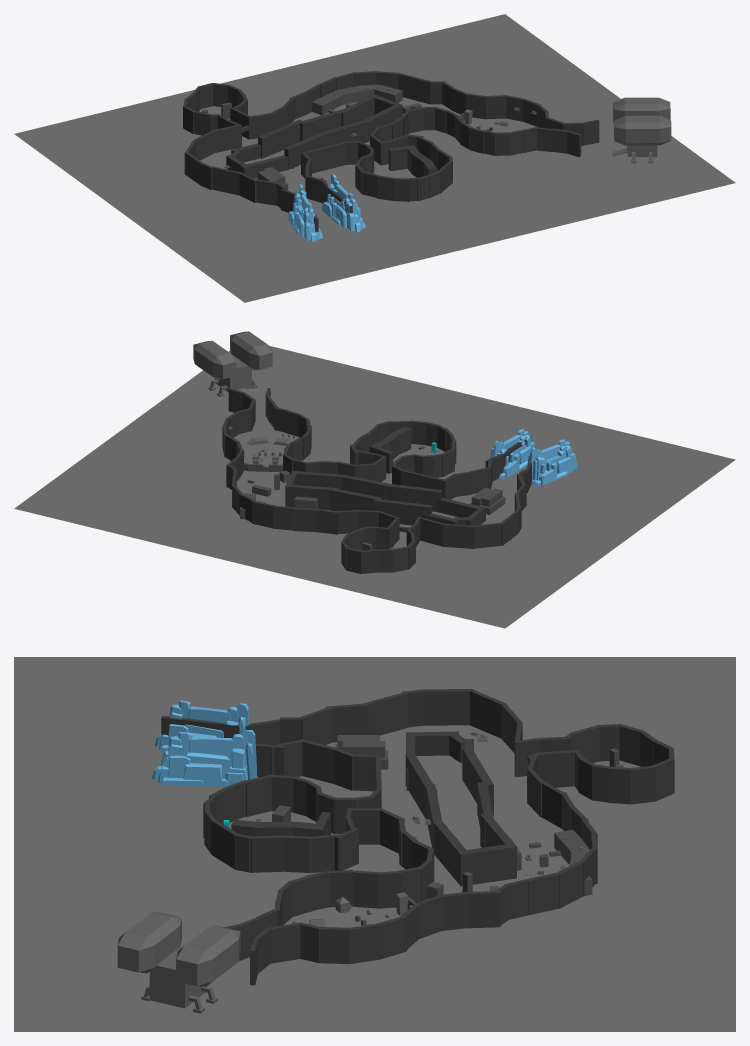
Rendered from 6group_wallMountain3.fbx.
The picture shows the model from 3 angles, top to bottom: view 1: azimuth 30°, elevation 25°; view 2: azimuth 150°, elevation 25°; view 3: azimuth 270°, elevation 25°; orthographic projection. The views are drawn at different scales.
Parts seen in each view (by area): view 1: Plane, Spaceship, Cube.151, Cube.105, Cube.143, Cube.006, Cube.140, Cube.139, Cube.092, Cube.087, Cube.141, Cube.138 (+5 smaller); view 2: Plane, Spaceship, Cube.105, Cube.151, Cube.143, Cube.141, Cube.139, Cube.140, Cube.138, Cube.088, Cube.089, Cube.137 (+8 smaller); view 3: Plane, Spaceship, Cube.151, Cube.105, Cube.090, Cube.147, Cube.092, Cube.137, Cube.071, Cube.061, Cube.023, Cube.058 (+52 smaller).
Boxes of the visible parts, x1=… form: Plane: x1=14, y1=14, x2=735, y2=302; Spaceship: x1=612, y1=97, x2=671, y2=163; Cube.151: x1=322, y1=174, x2=365, y2=232; Cube.105: x1=288, y1=184, x2=322, y2=241; Cube.143: x1=258, y1=119, x2=302, y2=158; Cube.006: x1=302, y1=142, x2=345, y2=173; Cube.140: x1=318, y1=120, x2=369, y2=146; Cube.139: x1=299, y1=109, x2=350, y2=141; Cube.092: x1=210, y1=166, x2=241, y2=195; Cube.087: x1=213, y1=124, x2=241, y2=152; Cube.141: x1=284, y1=131, x2=327, y2=169; Cube.138: x1=339, y1=94, x2=374, y2=126; Plane: x1=14, y1=346, x2=735, y2=628; Spaceship: x1=193, y1=331, x2=272, y2=397; Cube.105: x1=527, y1=439, x2=577, y2=485; Cube.151: x1=490, y1=429, x2=534, y2=478; Cube.143: x1=374, y1=499, x2=431, y2=525; Cube.141: x1=384, y1=484, x2=441, y2=511; Cube.139: x1=329, y1=489, x2=381, y2=510; Cube.140: x1=342, y1=475, x2=395, y2=500; Cube.138: x1=285, y1=484, x2=339, y2=509; Cube.088: x1=442, y1=523, x2=473, y2=548; Cube.089: x1=473, y1=522, x2=503, y2=548; Cube.137: x1=292, y1=470, x2=344, y2=489; Plane: x1=14, y1=657, x2=735, y2=1031; Spaceship: x1=117, y1=912, x2=240, y2=1013; Cube.151: x1=151, y1=730, x2=257, y2=786; Cube.105: x1=155, y1=700, x2=248, y2=752; Cube.090: x1=424, y1=689, x2=472, y2=725; Cube.147: x1=463, y1=843, x2=514, y2=884; Cube.092: x1=361, y1=692, x2=408, y2=735; Cube.137: x1=433, y1=820, x2=469, y2=886; Cube.071: x1=535, y1=749, x2=579, y2=787; Cube.061: x1=526, y1=872, x2=561, y2=915; Cube.023: x1=249, y1=835, x2=285, y2=872; Cube.058: x1=467, y1=891, x2=500, y2=928.
Bounding box in the file's own units: 239 × 40.13 × 194.
